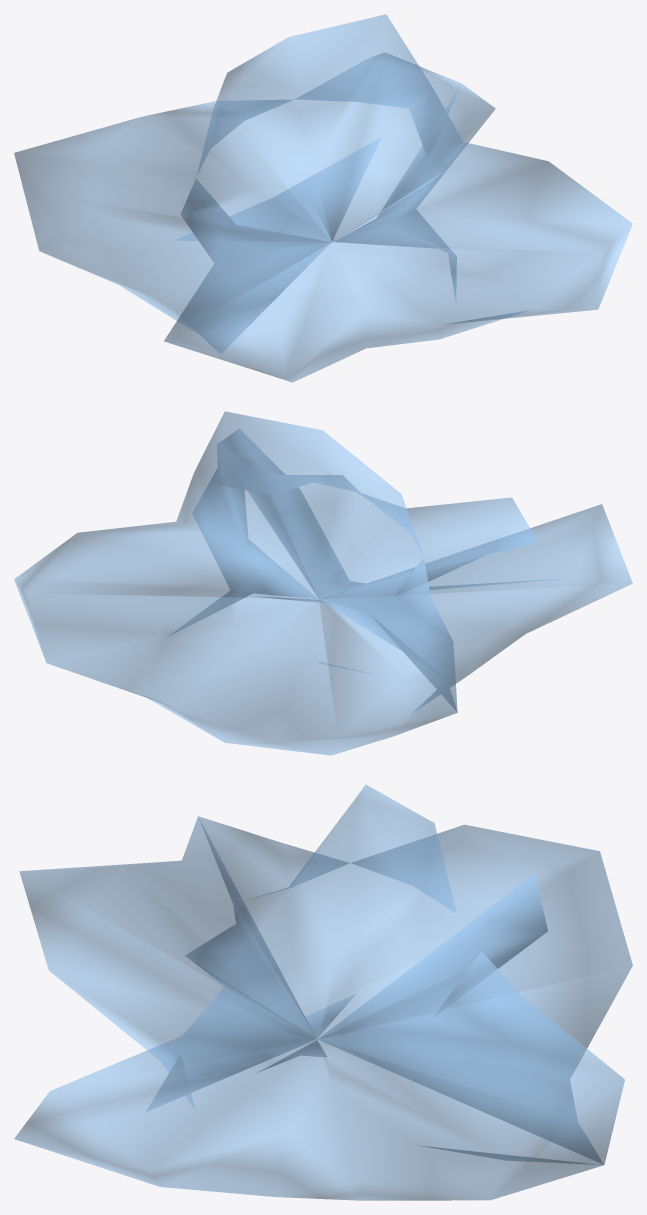
Rendered from ssproteus_shield.gltf.
3 views of the same model, one above another, from view 1: azimuth 30°, elevation 25°; view 2: azimuth 150°, elevation 25°; view 3: azimuth 270°, elevation 25° (orthographic). The views are drawn at different scales.
Visible parts, largest first — view 1: ssproteus.shield; view 2: ssproteus.shield; view 3: ssproteus.shield.
Boxes of the visible parts, left/top/right/bottom form: ssproteus.shield: left=14, top=14, right=632, bottom=382; ssproteus.shield: left=14, top=411, right=632, bottom=755; ssproteus.shield: left=14, top=784, right=632, bottom=1200.
Bounding box in the file's own units: 24.28 × 14.09 × 21.74.
